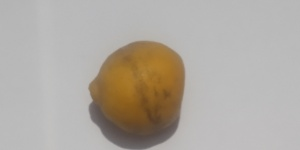BAD: (88, 37, 186, 138)
